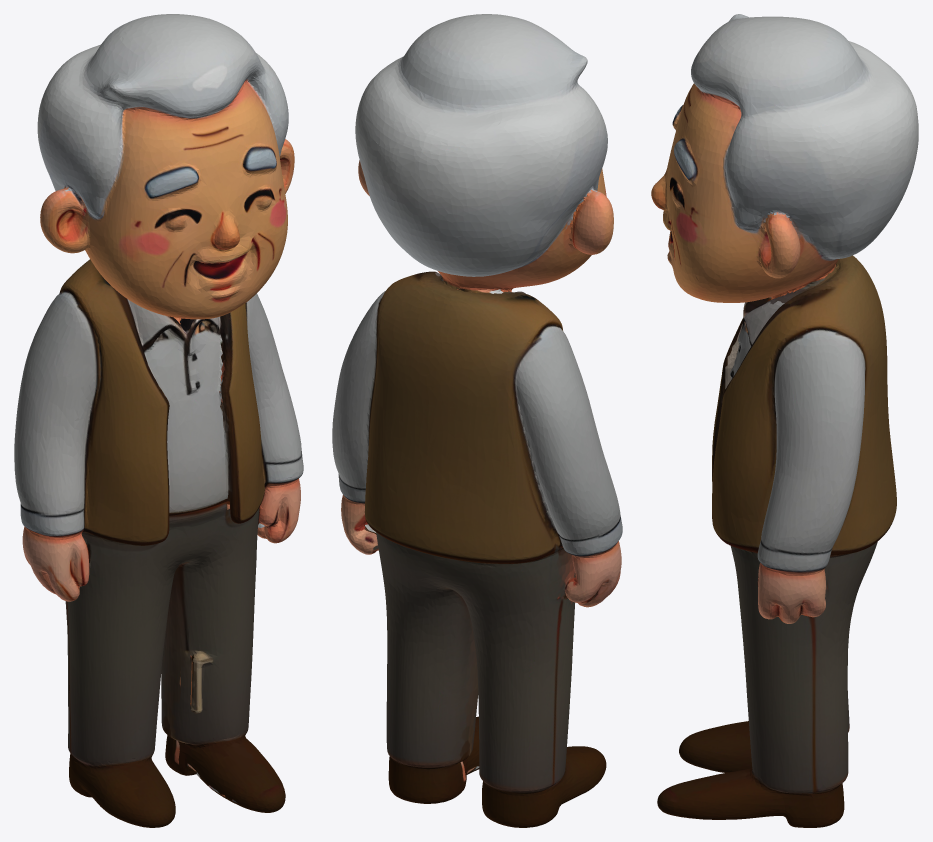
The model's file is newMan5.glb.
The picture shows the model from 3 angles, left to right: view 1: azimuth 30°, elevation 25°; view 2: azimuth 150°, elevation 25°; view 3: azimuth 270°, elevation 25°; orthographic projection.
Visible parts, largest first — view 1: 2288364a-a39b-4a36-83ab-edbab7229e7c_texturing.obj; view 2: 2288364a-a39b-4a36-83ab-edbab7229e7c_texturing.obj; view 3: 2288364a-a39b-4a36-83ab-edbab7229e7c_texturing.obj.
Boxes of the visible parts, x1,y1,x2,y2 form: 2288364a-a39b-4a36-83ab-edbab7229e7c_texturing.obj: (14,14,303,827); 2288364a-a39b-4a36-83ab-edbab7229e7c_texturing.obj: (332,14,622,827); 2288364a-a39b-4a36-83ab-edbab7229e7c_texturing.obj: (651,14,918,827).
Size of the model in its own units: 0.7437 by 1.99 by 0.6306.
1 material, 1 textured.
